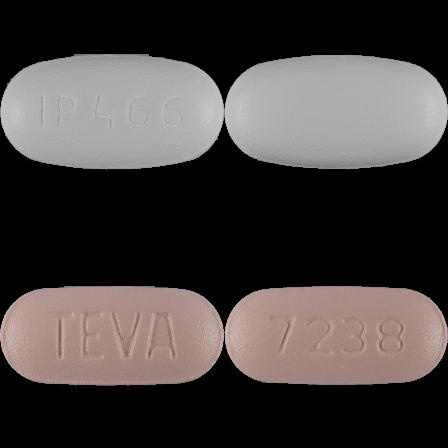42291-339: (0, 0, 224, 224)
